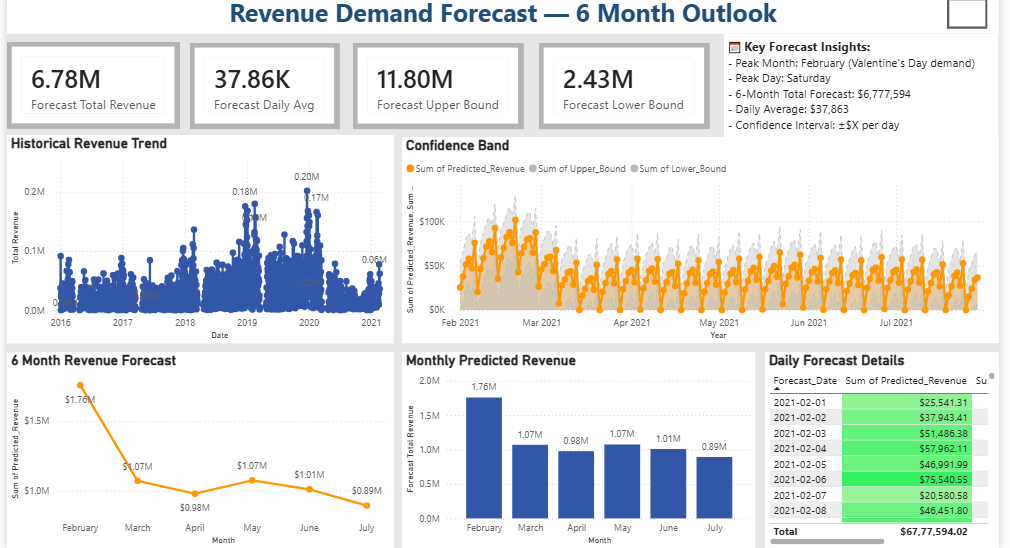

Layout of this report page (visuals, bound fields, positions):
{"tool":"powerbi","page":{"name":"Demand Forecast","canvas":[1280,720],"ordinal":3},"visuals":[{"type":"textbox","box":[0,0,1279.8,55.3],"z":0},{"type":"lineChart","title":"Historical Revenue Trend","fields":{"Y":["_Measures.Total Revenue"],"Category":["Date Table.Date"]},"box":[0,185.7,498.9,269.3],"z":1000},{"type":"lineChart","title":"6 Month Revenue Forecast","fields":{"Y":["Sum(revenue_forecast.Predicted_Revenue)"],"Category":["revenue_forecast.Date.Variation.Date Hierarchy.Month"]},"box":[0,466.3,498.9,253.7],"z":2000},{"type":"cardVisual","fields":{"Data":["_Measures.Forecast Total Revenue"]},"box":[0,65.2,222.5,112],"z":3000},{"type":"cardVisual","fields":{"Data":["_Measures.Forecast Daily Avg"]},"box":[236.7,66.6,192.8,110.6],"z":4000},{"type":"cardVisual","fields":{"Data":["_Measures.Forecast Upper Bound"]},"box":[446.5,66.6,219.7,110.6],"z":5000},{"type":"cardVisual","fields":{"Data":["_Measures.Forecast Lower Bound"]},"box":[686,66.6,219.7,110.6],"z":6000},{"type":"clusteredColumnChart","title":"Monthly Predicted Revenue","fields":{"Y":["_Measures.Forecast Total Revenue"],"Category":["revenue_forecast.Date.Variation.Date Hierarchy.Month"]},"box":[510.2,466.3,456.4,253.7],"z":7000},{"type":"tableEx","title":"Daily Forecast Details","fields":{"Values":["revenue_forecast.Forecast_Date","Sum(revenue_forecast.Predicted_Revenue)","Sum(revenue_forecast.Upper_Bound)","Sum(revenue_forecast.Lower_Bound)"]},"box":[978,466.3,301.9,253.7],"z":8000},{"type":"textbox","box":[925.5,55.3,354.3,138.9],"z":9000},{"type":"areaChart","title":"Confidence Band","fields":{"Y":["Sum(revenue_forecast.Predicted_Revenue)","Sum(revenue_forecast.Upper_Bound)","Sum(revenue_forecast.Lower_Bound)"],"Category":["revenue_forecast.Date.Variation.Date Hierarchy.Year","revenue_forecast.Date.Variation.Date Hierarchy.Quarter","revenue_forecast.Date.Variation.Date Hierarchy.Month","revenue_forecast.Date.Variation.Date Hierarchy.Day"]},"box":[510.2,188.5,769.6,266.5],"z":10000},{"type":"actionButton","box":[1213.2,8.5,52.4,39.7],"z":10001}]}

Visuals, with their boxes on the page's 1280x720 design canvas (x1, y1, x2, y2). These are canvas units, not pixel positions in the 1010x548 screenshot, which may show the page scaled, cropped or inside an application window:
textbox: 0 0 1280 55
"Historical Revenue Trend" lineChart: 0 186 499 455
"6 Month Revenue Forecast" lineChart: 0 466 499 720
cardVisual - _Measures.Forecast Total Revenue: 0 65 222 177
cardVisual - _Measures.Forecast Daily Avg: 237 67 430 177
cardVisual - _Measures.Forecast Upper Bound: 446 67 666 177
cardVisual - _Measures.Forecast Lower Bound: 686 67 906 177
"Monthly Predicted Revenue" clusteredColumnChart: 510 466 967 720
"Daily Forecast Details" tableEx: 978 466 1280 720
textbox: 926 55 1280 194
"Confidence Band" areaChart: 510 188 1280 455
actionButton: 1213 8 1266 48
